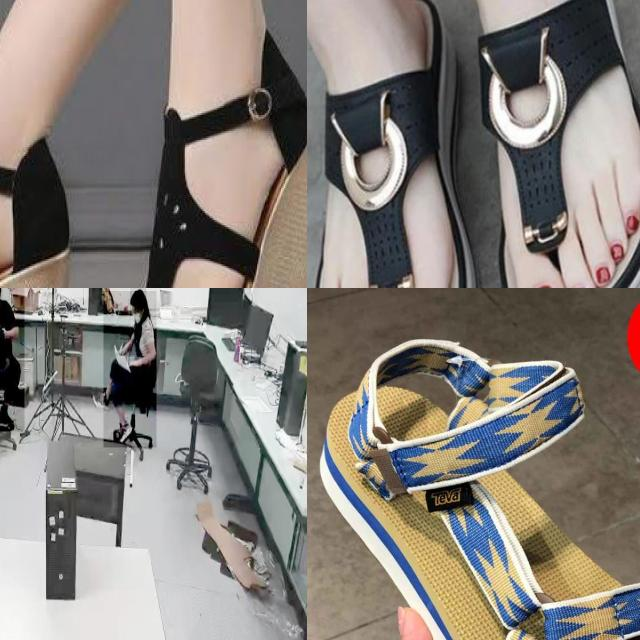Sandals: (307, 294, 640, 640), (307, 0, 640, 288), (98, 28, 307, 288)
face_mask: (131, 306, 143, 327)
glasses: (112, 420, 133, 446), (0, 403, 15, 433), (92, 392, 110, 410)
hand_noglove: (127, 356, 141, 366)
head_nohelmet: (129, 288, 146, 304)
person: (103, 291, 157, 448), (0, 288, 25, 432)
